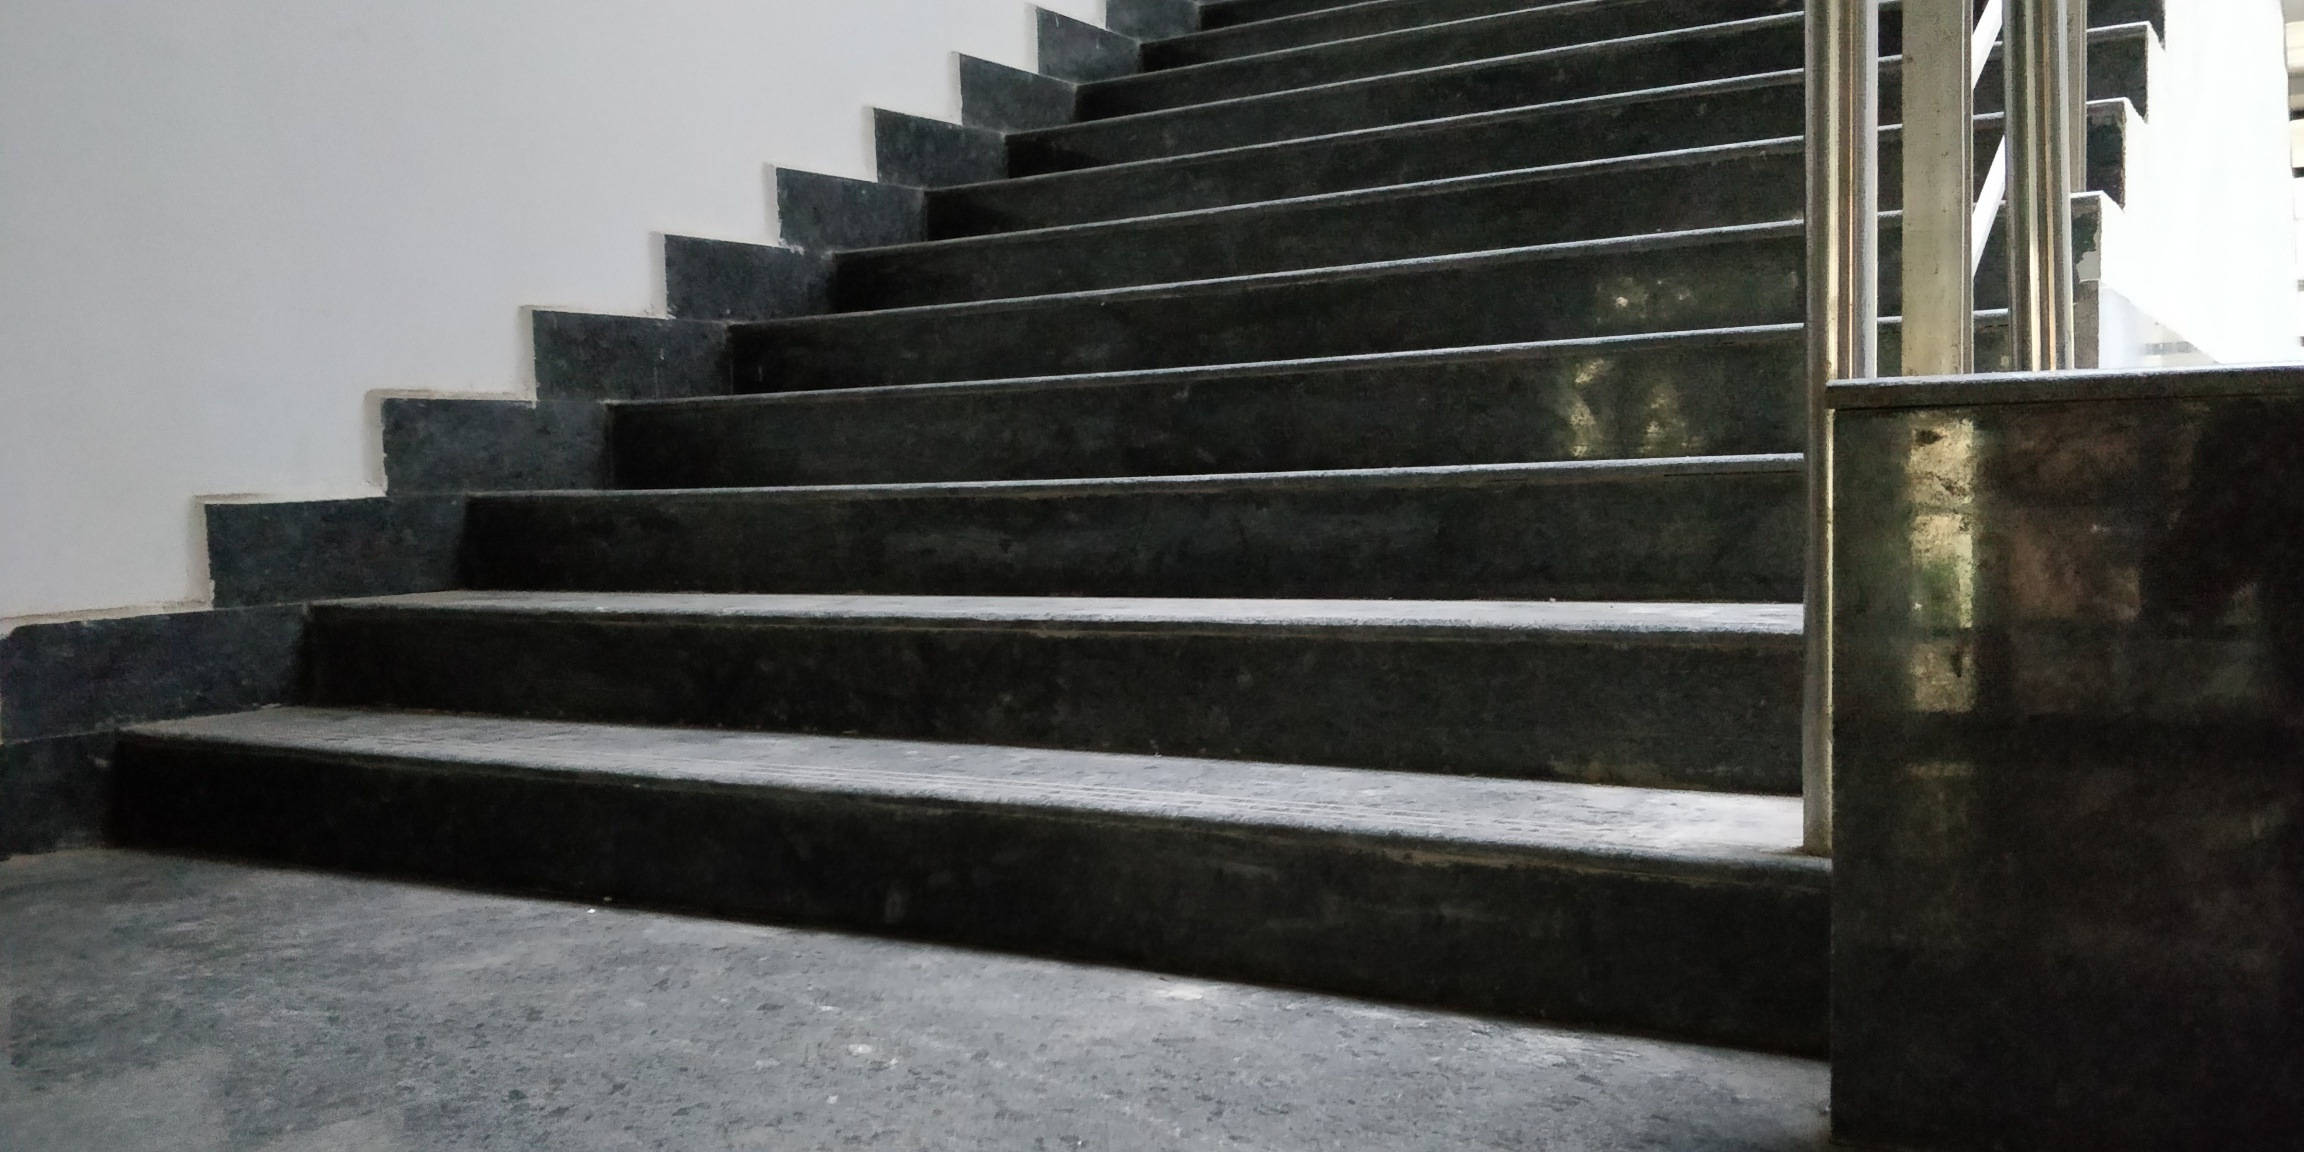stairs_up: (122, 3, 2010, 1026)
